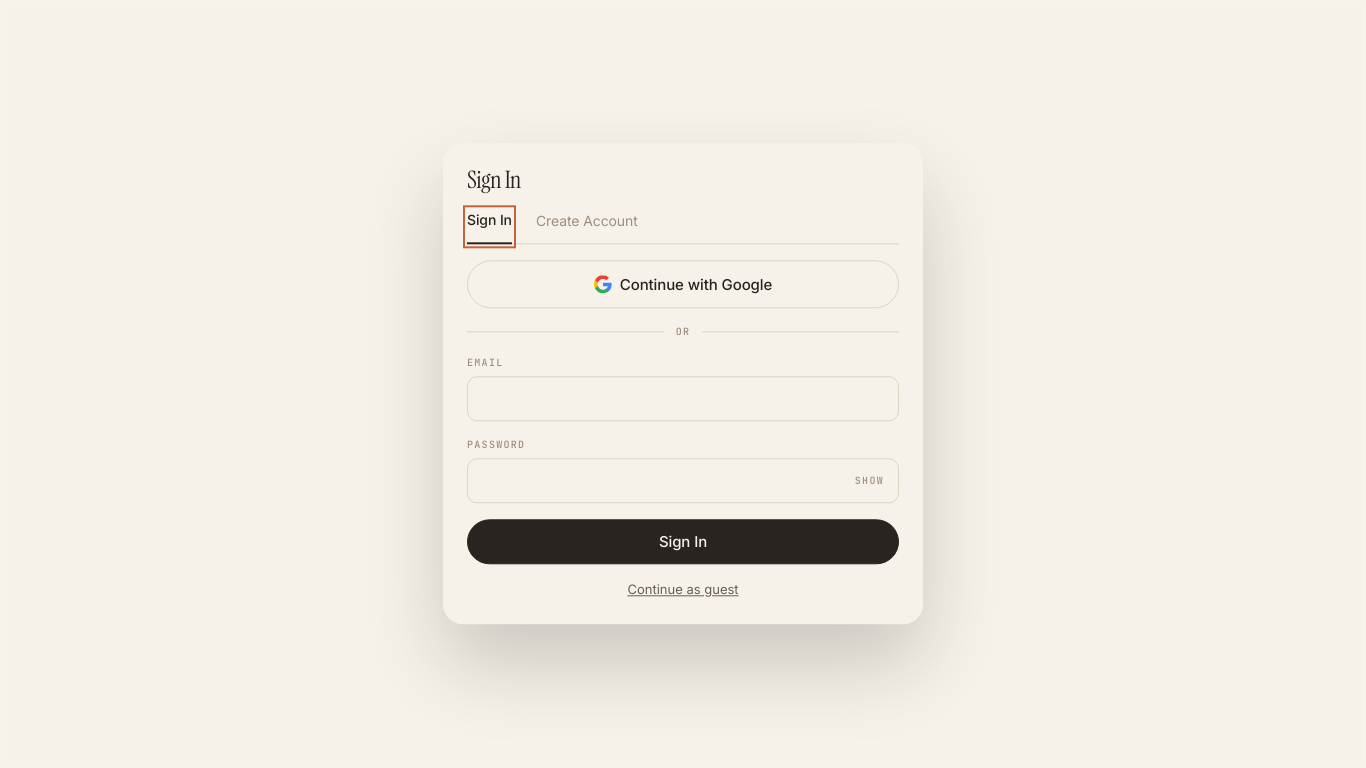
Test: AuthModal › switches to Create Account when the signup tab is clicked
Click the tab "Create Account": (587, 227) [536,210,638,245]
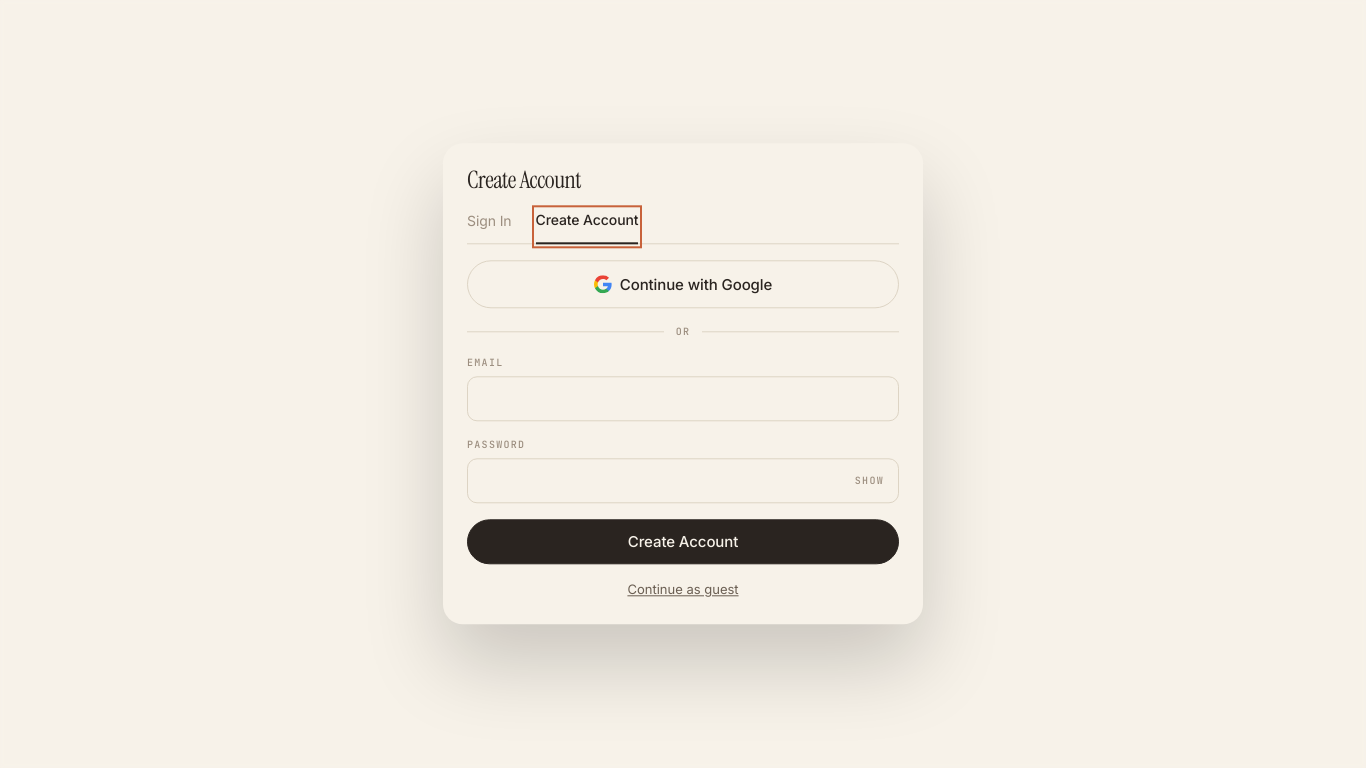
Expected: the heading "Create Account" is shown, [467,164,581,195]
